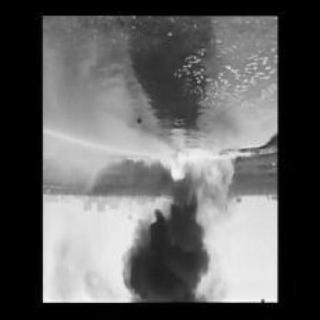Fire: (130, 155, 244, 223)
Smoke: (113, 225, 215, 301)
